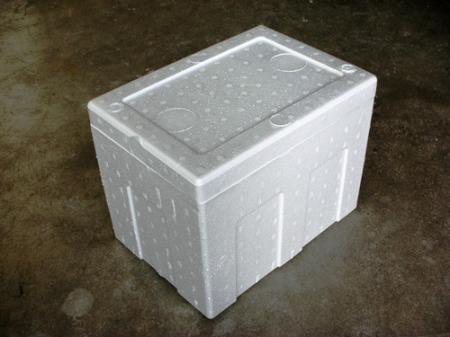Foam Box: (84, 22, 381, 321)
